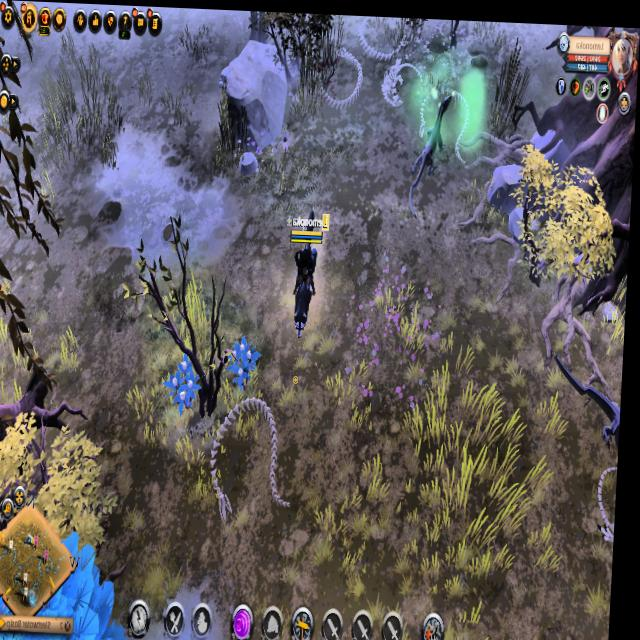fiber tier 4: (166, 352, 205, 417), (230, 333, 264, 388)
